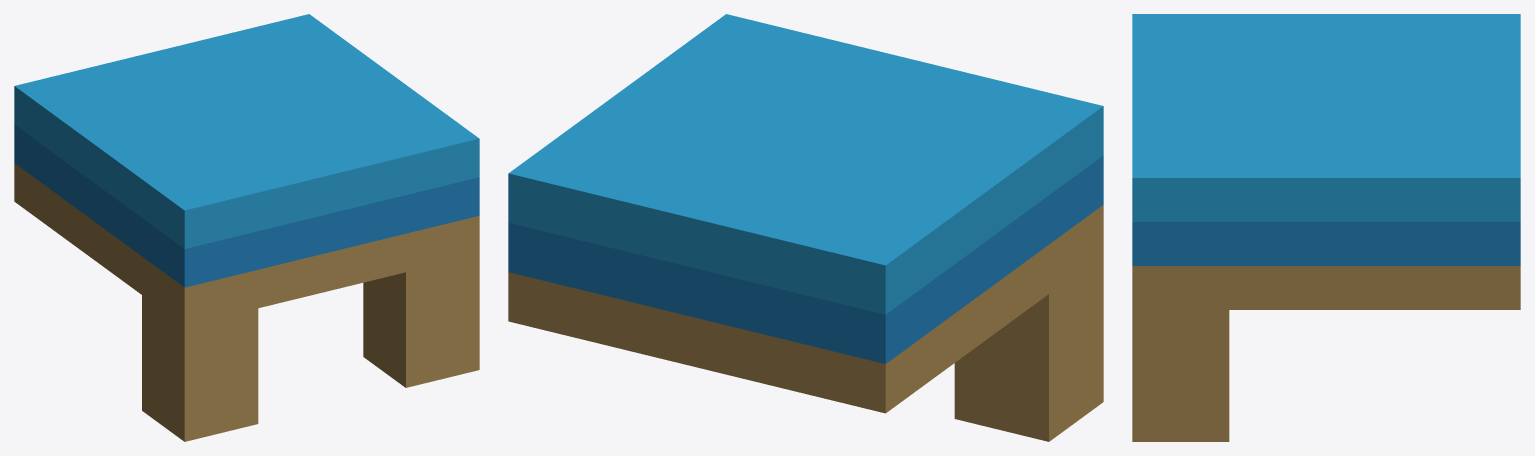
The model's file is Light Blue Bed.glb.
The picture shows the model from 3 angles, left to right: view 1: azimuth 30°, elevation 25°; view 2: azimuth 150°, elevation 25°; view 3: azimuth 270°, elevation 25°; orthographic projection. The views are drawn at different scales.
Visible parts, largest first — view 1: Untitled; view 2: Untitled; view 3: Untitled.
Part boxes in pixels (x1,y1,x2,y2): Untitled: [14, 14, 479, 441]; Untitled: [508, 14, 1103, 441]; Untitled: [1132, 14, 1520, 441].
Size of the model in its own units: 1.6 by 1.2 by 1.6.
1 material, 1 textured.
